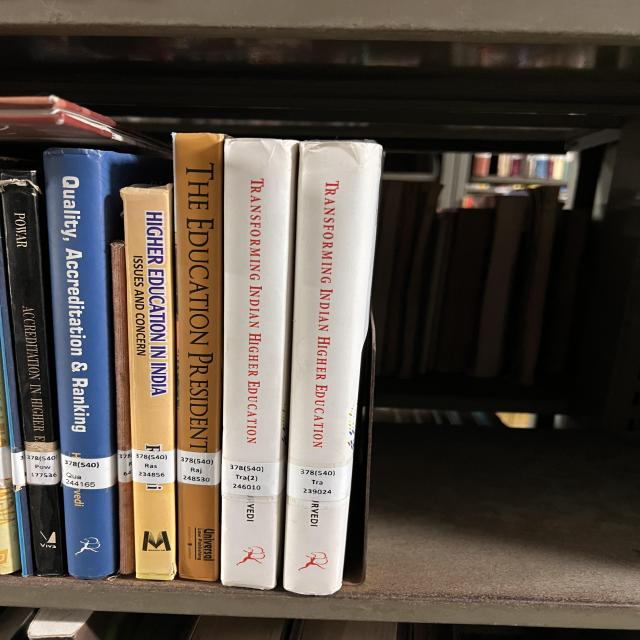Book: (43, 149, 168, 579), (283, 141, 382, 595), (220, 139, 298, 589), (0, 170, 67, 576), (173, 134, 225, 581), (122, 185, 177, 580)
Label: (287, 464, 352, 501), (222, 459, 283, 496), (177, 449, 222, 485), (132, 449, 175, 484), (25, 450, 60, 485), (117, 450, 132, 482), (90, 459, 95, 462)
